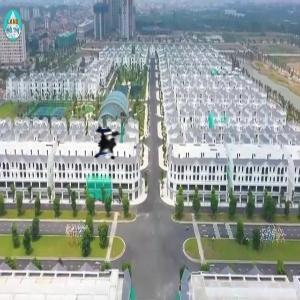drone: (67, 116, 129, 178)
